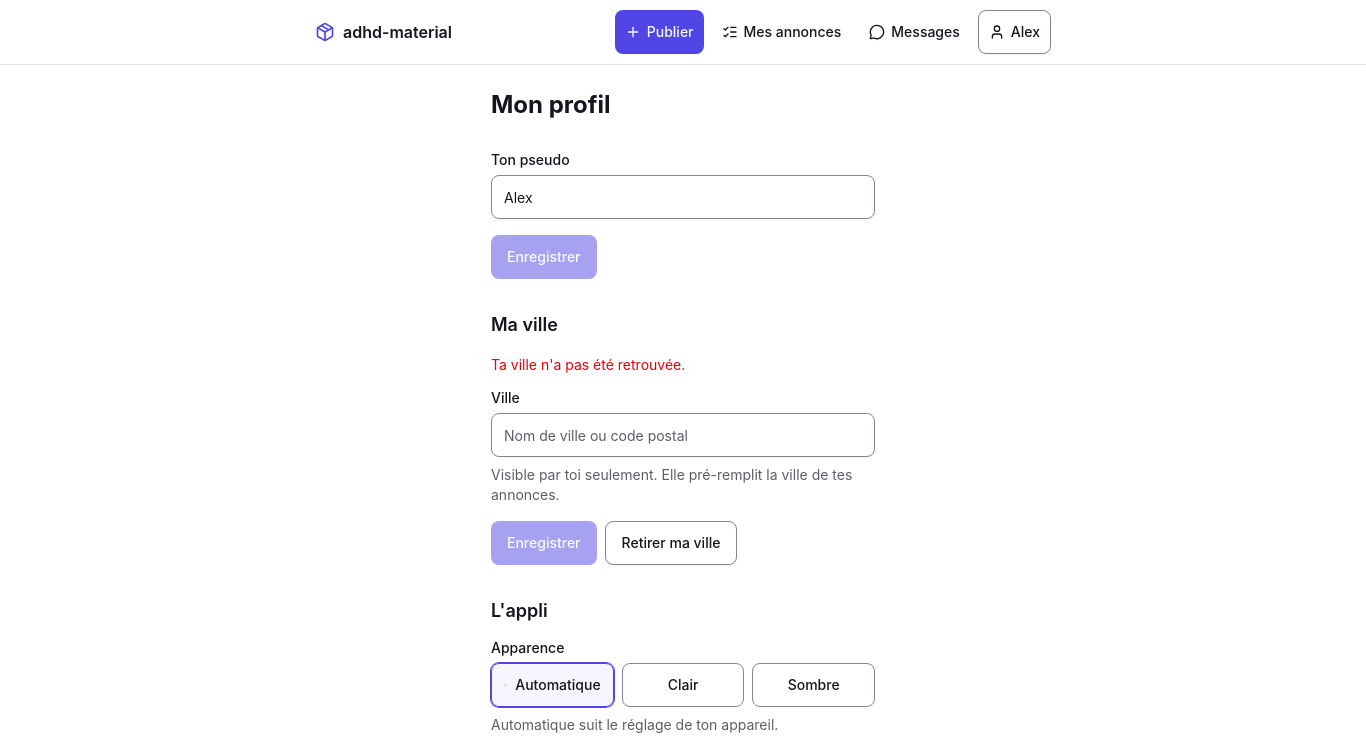
Test: section « Ma ville » du profil › depuis « ville introuvable », enregistrer garde le focus dans le champ
Type "Alb" into the dropdown labelled "Ville" at [683, 435], box x1=491 y1=413 x2=875 y2=457
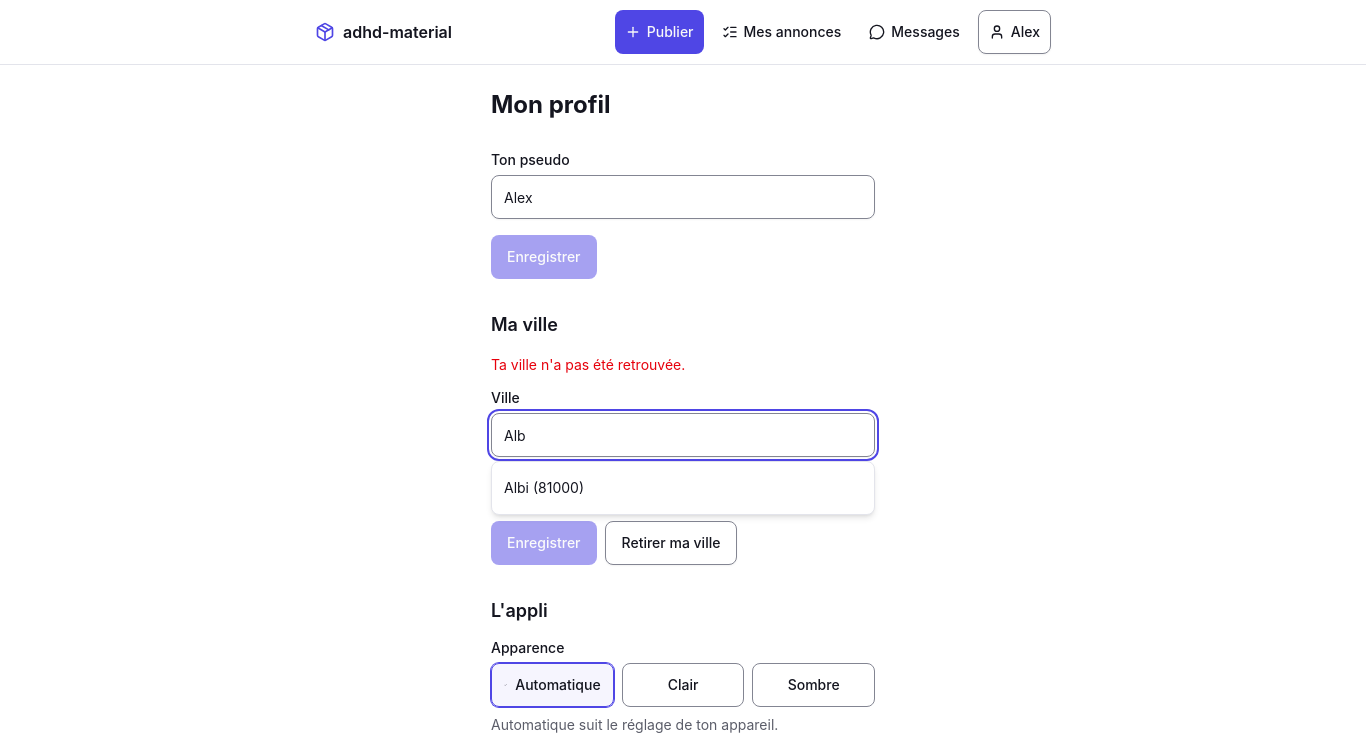
Click the option "Albi (81000)" at [544, 488], box x1=504 y1=479 x2=584 y2=496
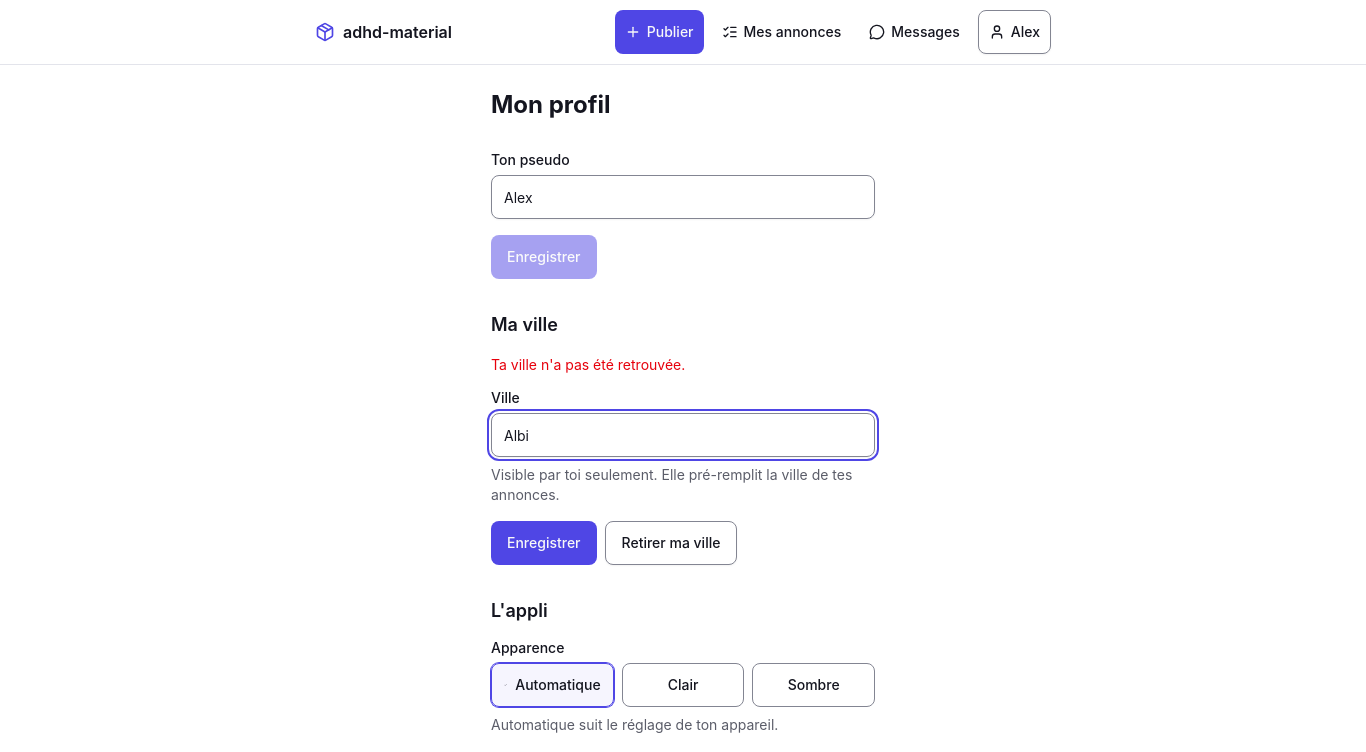
Click the button "Enregistrer" below "Ta ville n'a pas été retrouvée." at [544, 543], box x1=491 y1=521 x2=596 y2=565
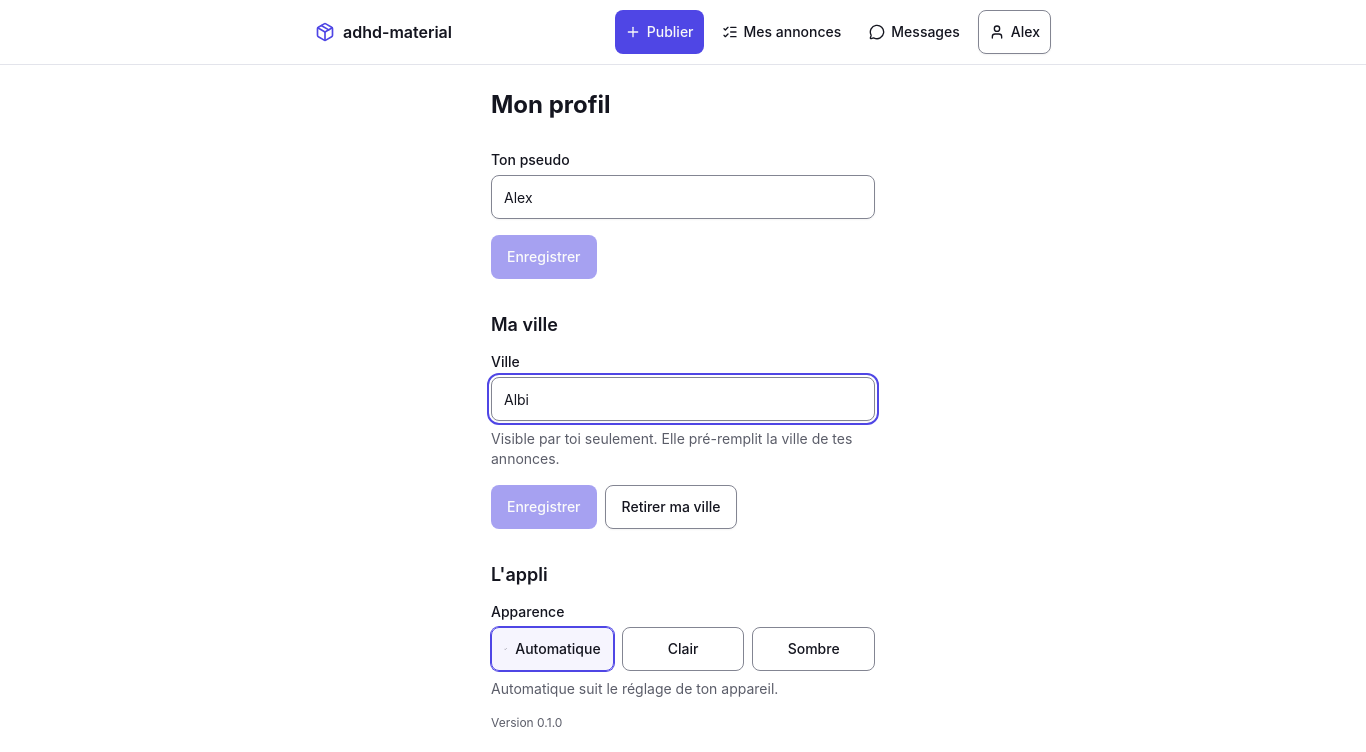
Now the dropdown labelled "Ville" holds "Albi", box x1=491 y1=377 x2=875 y2=421
Now the message "Ta ville n'a pas été retrouvée." is gone
